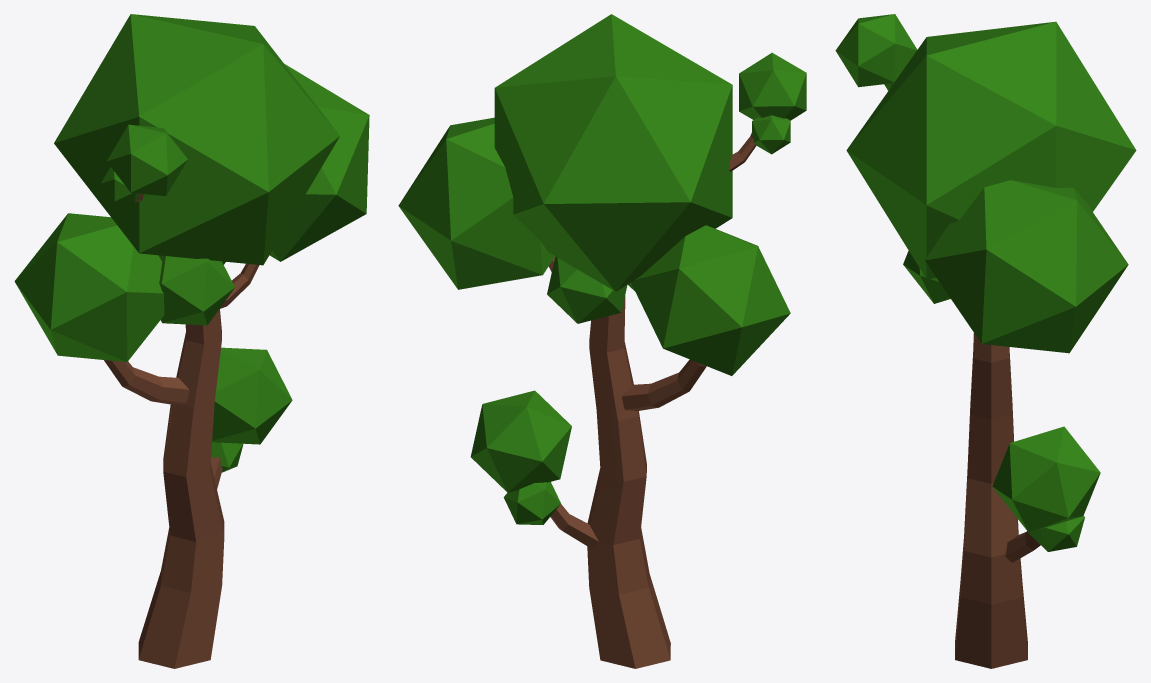
The model's file is Tree_Green_Geo.fbx.
3 renders of one model, left to right at view 1: azimuth 30°, elevation 25°; view 2: azimuth 150°, elevation 25°; view 3: azimuth 270°, elevation 25°, orthographic. The views are drawn at different scales.
Visible parts, largest first — view 1: Tree_Green_Geo; view 2: Tree_Green_Geo; view 3: Tree_Green_Geo.
Boxes of the visible parts, bbox=[...] form: Tree_Green_Geo: bbox=[14, 14, 369, 668]; Tree_Green_Geo: bbox=[398, 14, 806, 668]; Tree_Green_Geo: bbox=[835, 14, 1136, 668].
Bounding box in the file's own units: 146 × 251 × 110.
